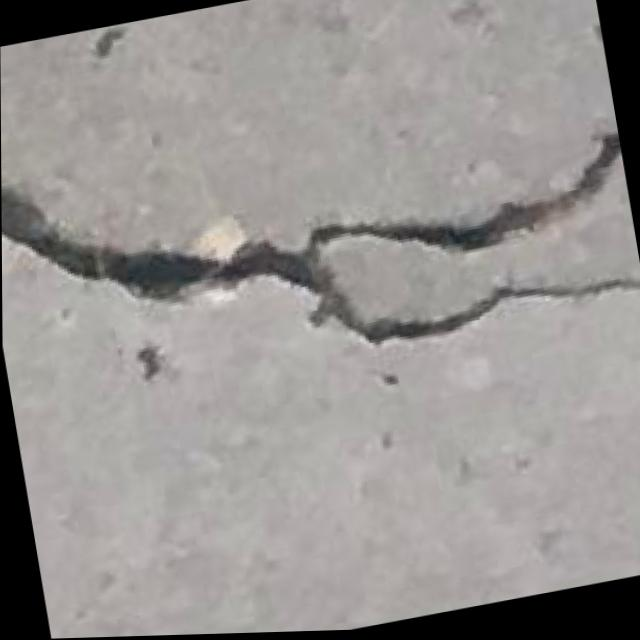Crack: (0, 42, 640, 432)
